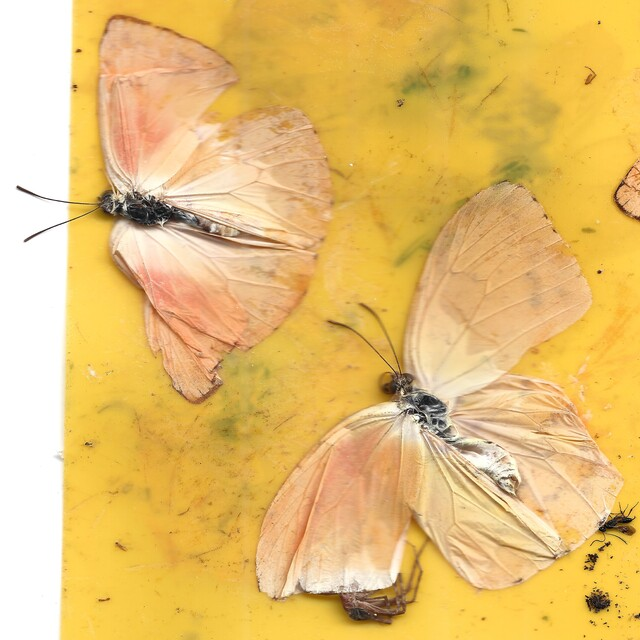Araneae: (339, 541, 425, 625)
Lepidoptera: (255, 180, 624, 603), (16, 15, 333, 404)
